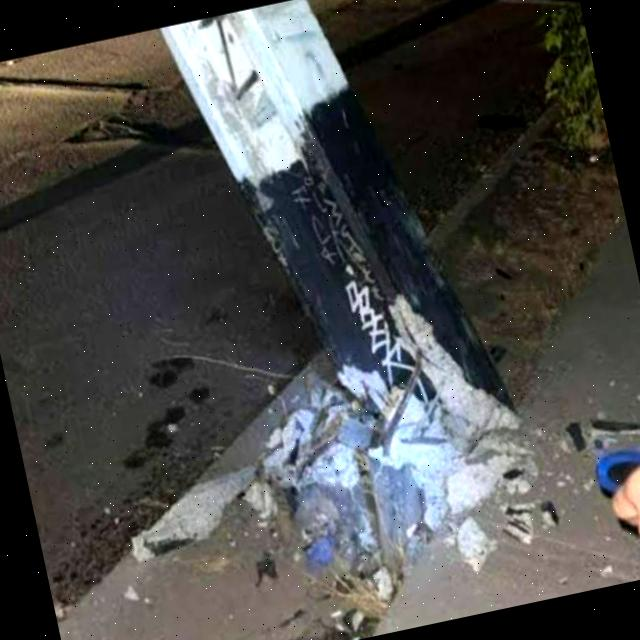Broken Pole: (156, 0, 534, 599)
